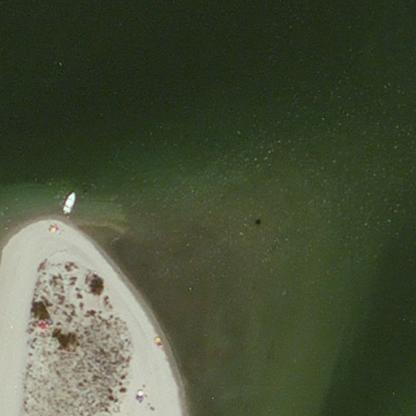ship: (56, 185, 82, 217)
